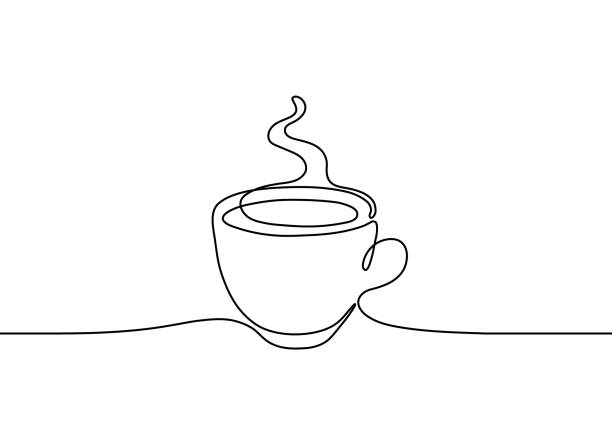cup: (31, 20, 562, 392)
